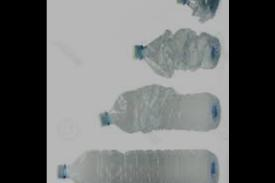Plastic: (95, 83, 226, 134), (51, 147, 225, 182), (126, 27, 226, 75), (169, 0, 225, 23)
